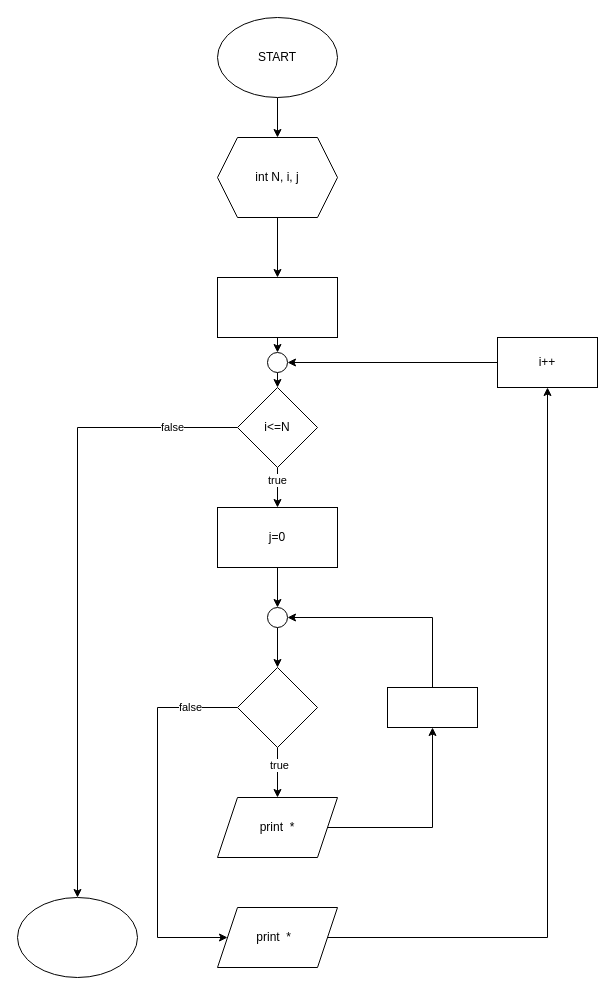
This 615x995 diagram has some shape labels left out. The centre of each missing label's shape, as x and y in pixels:
finish: (77,937)
i=1: (277,307)
j++: (432,707)
j<N: (277,707)
